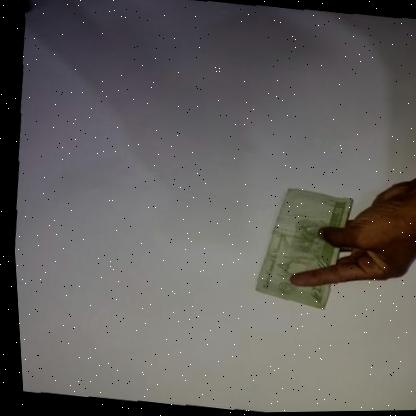fifty-back-vef: (243, 184, 356, 314)
